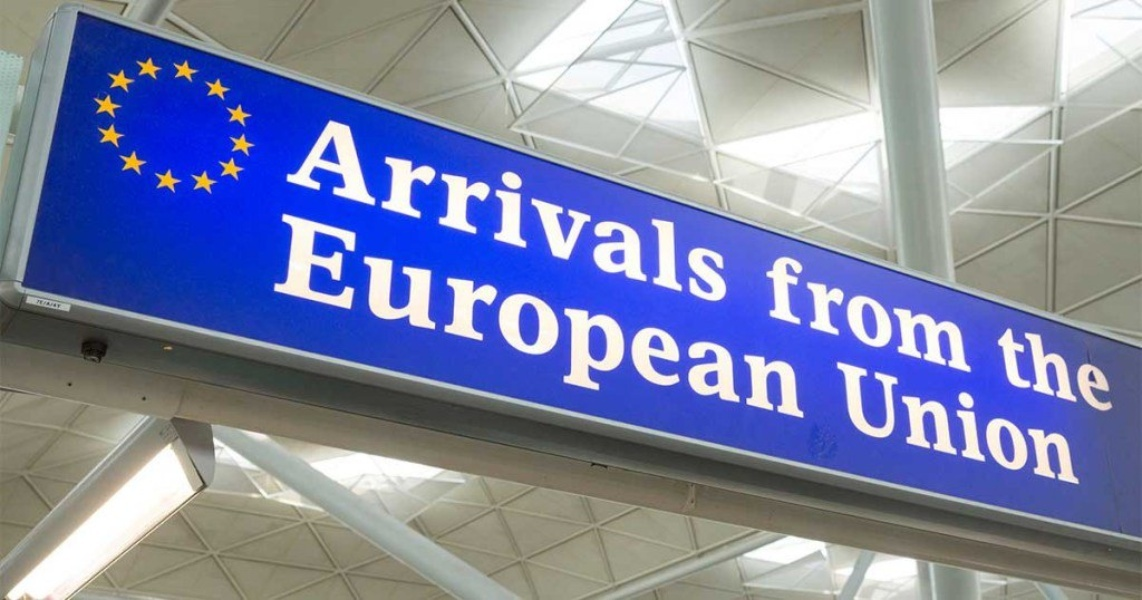text: (289, 211, 304, 443), (305, 211, 320, 443), (321, 211, 336, 443), (337, 211, 352, 443), (353, 211, 368, 443), (369, 211, 384, 443), (385, 211, 400, 443), (401, 211, 416, 443), (417, 211, 432, 443), (433, 211, 448, 443), (449, 211, 464, 443), (465, 211, 480, 443), (481, 211, 496, 443), (497, 211, 512, 443), (513, 211, 528, 443), (529, 211, 544, 443), (545, 211, 560, 443), (561, 211, 576, 443), (577, 211, 592, 443), (593, 211, 608, 443), (609, 211, 624, 443), (625, 211, 640, 443), (641, 211, 656, 443), (657, 211, 672, 443), (673, 211, 688, 443), (689, 211, 704, 443), (705, 211, 720, 443), (721, 211, 736, 443), (737, 211, 752, 443), (753, 211, 768, 443), (769, 211, 784, 443), (785, 211, 800, 443), (801, 211, 814, 443), (321, 113, 336, 307), (337, 113, 352, 307), (353, 113, 368, 307), (369, 113, 384, 307), (385, 113, 400, 307), (401, 113, 416, 307), (417, 113, 432, 307), (433, 113, 448, 307), (449, 113, 464, 307), (465, 113, 480, 307), (481, 113, 496, 307), (497, 113, 512, 307), (513, 113, 528, 307), (529, 113, 544, 307), (545, 113, 560, 307), (561, 113, 576, 307), (577, 113, 592, 307), (593, 113, 608, 307), (609, 113, 624, 307), (625, 113, 640, 307), (641, 113, 656, 307), (657, 113, 672, 307), (673, 113, 688, 307), (689, 113, 704, 307), (705, 113, 720, 307), (721, 113, 732, 307), (769, 248, 784, 375), (785, 248, 800, 375), (801, 248, 816, 375), (817, 248, 832, 375), (833, 248, 848, 375), (849, 248, 864, 375), (865, 248, 880, 375), (881, 248, 896, 375), (897, 248, 912, 375), (913, 248, 928, 375), (929, 248, 944, 375), (945, 248, 960, 375), (849, 361, 864, 488), (865, 361, 880, 488), (881, 361, 896, 488), (897, 361, 912, 488), (913, 361, 928, 488), (929, 361, 944, 488), (945, 361, 960, 488), (961, 361, 976, 488), (977, 361, 992, 488), (993, 361, 1008, 488), (1009, 361, 1024, 488), (1025, 361, 1040, 488), (1041, 361, 1056, 488), (1057, 361, 1072, 488), (961, 248, 974, 375), (836, 361, 848, 488), (1009, 323, 1024, 416), (1025, 323, 1040, 416), (1041, 323, 1056, 416), (1057, 323, 1072, 416), (1073, 323, 1088, 416), (1089, 323, 1104, 416), (282, 211, 288, 443), (994, 323, 1008, 416), (1073, 361, 1083, 488), (1105, 323, 1116, 416), (318, 113, 320, 307), (767, 248, 768, 375)
